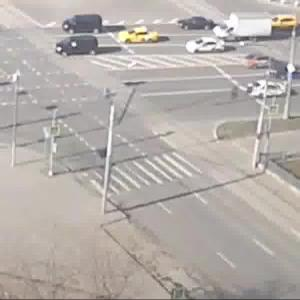car: (213, 13, 275, 43), (185, 36, 230, 58), (55, 35, 101, 56), (252, 78, 290, 101), (266, 8, 300, 33), (63, 15, 103, 35), (123, 28, 160, 44), (177, 18, 214, 33), (241, 54, 273, 66)
